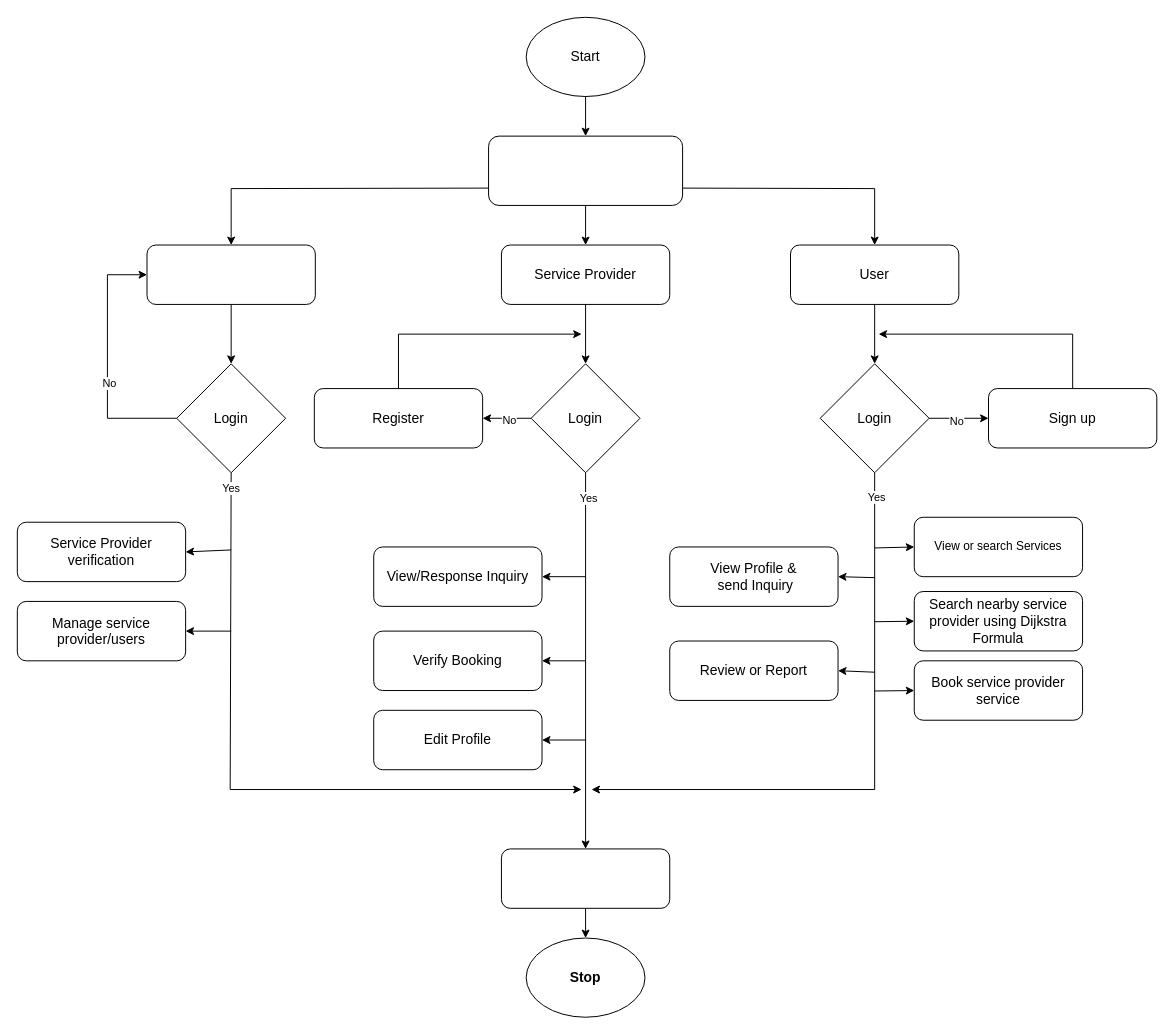
The diagram is 1174 pixels wide and 1035 high, and some of its shapes have lost their labels. The shapes that lost their labels are listed below. From the top down, each one's centre as x and y in pixels, then its label:
At (585,170): "Household Service Providing System(Home Needs)".
At (230,274): "Admin".
At (585,878): "Logout".
